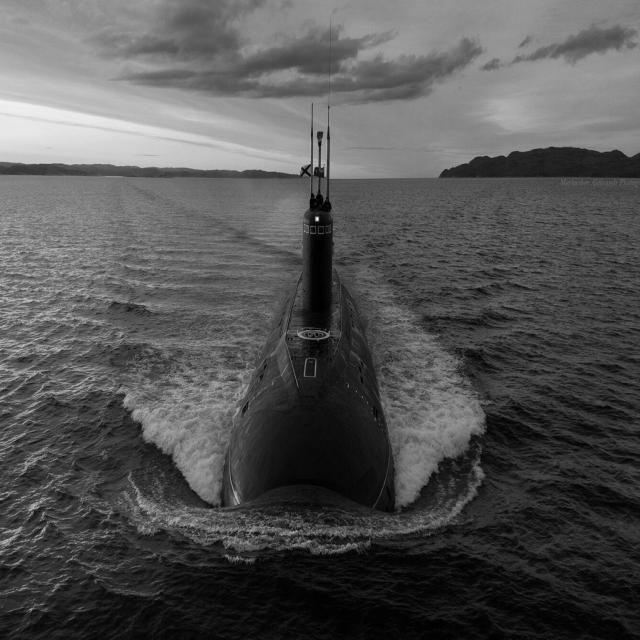submarine: (213, 43, 402, 523)
